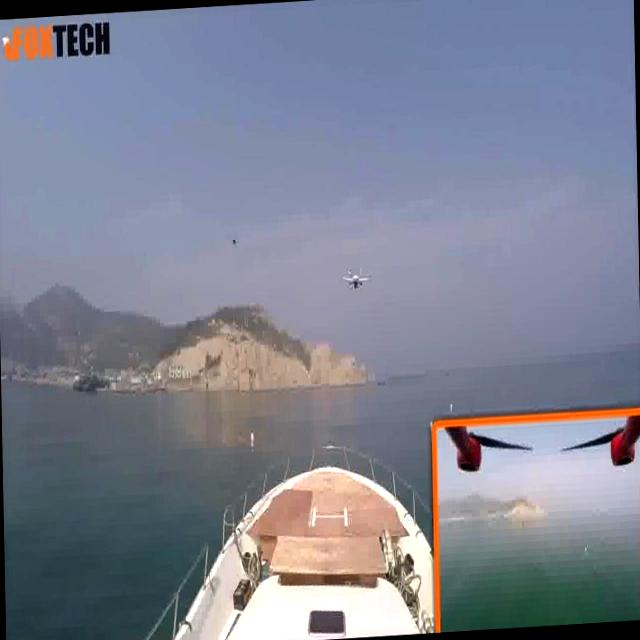drone: (339, 260, 376, 294)
